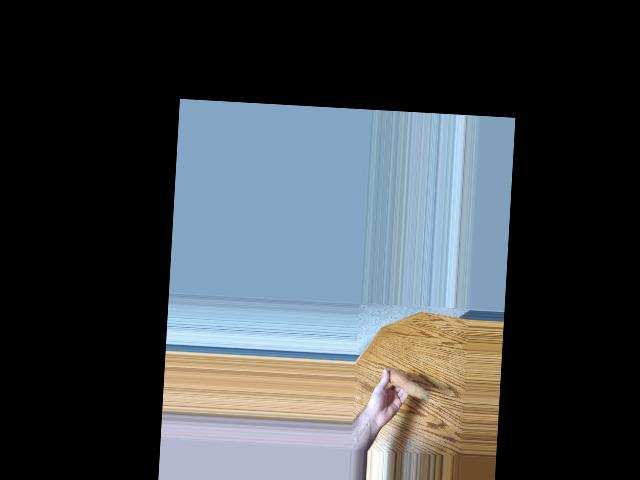sweet_potato: (379, 366, 432, 404)
